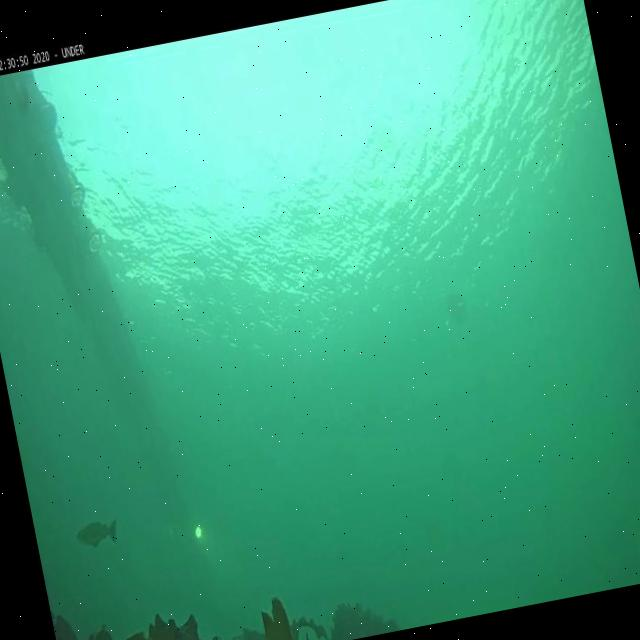fish: (75, 524, 122, 554)
